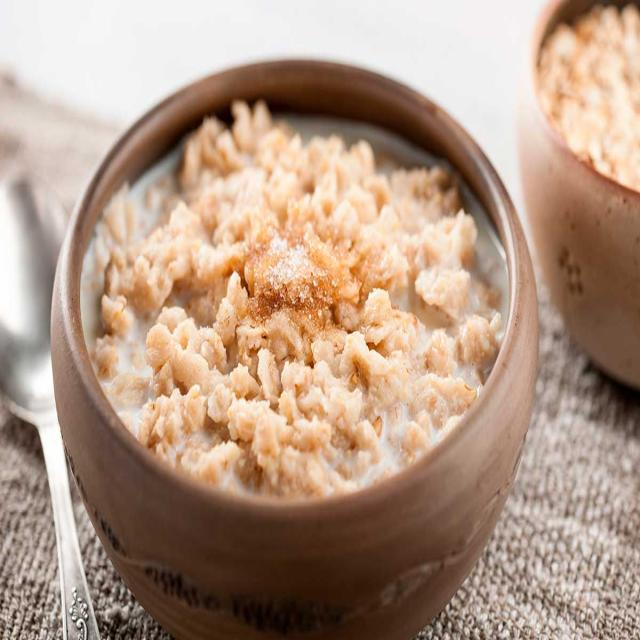avena: (71, 59, 520, 558)
